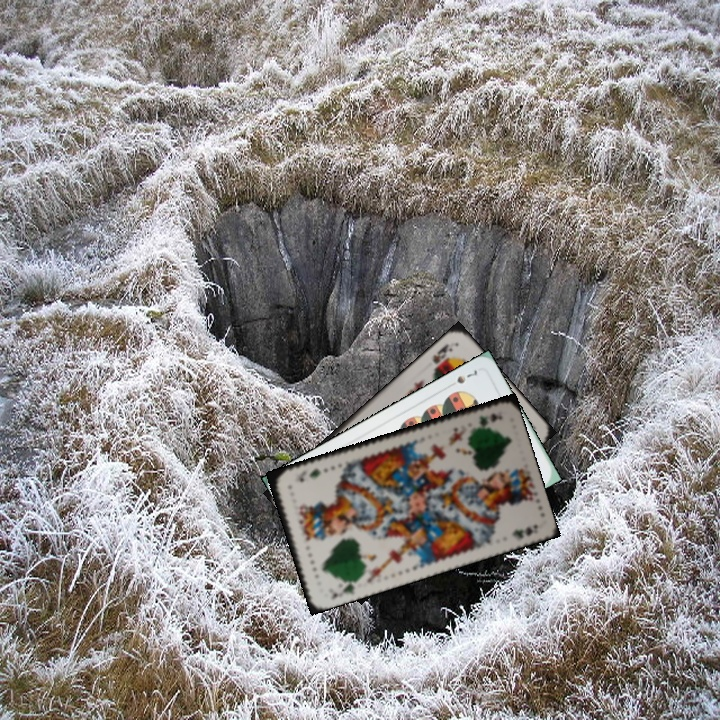GK: (327, 576, 359, 601), (475, 409, 505, 429)
S7: (444, 366, 480, 390)
SK: (428, 339, 455, 367)
